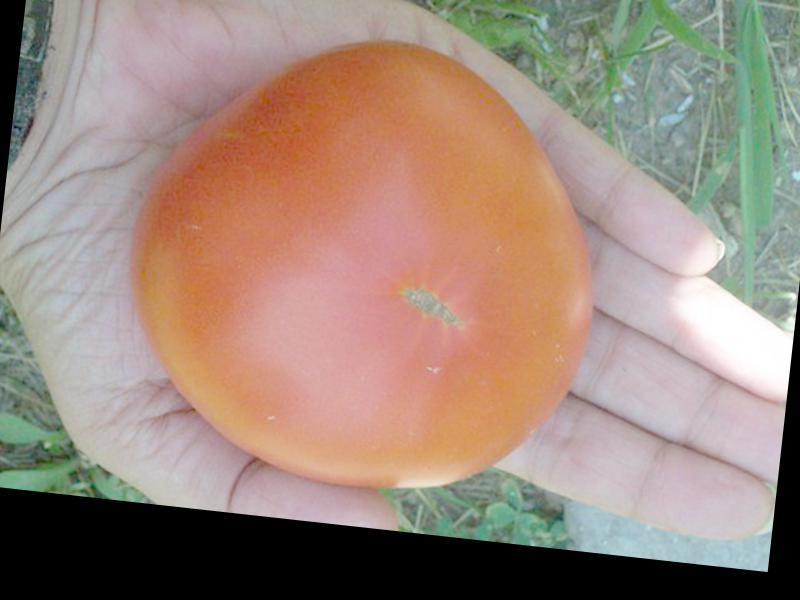Tomato: (114, 15, 618, 509)
